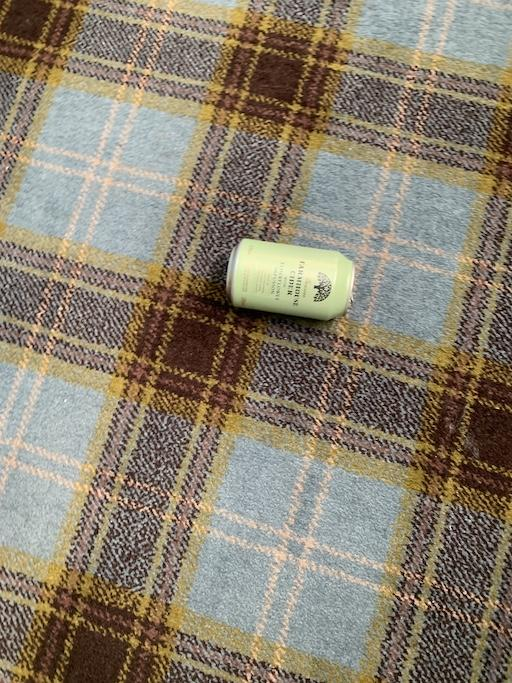Aluminum can: (196, 205, 382, 332)
